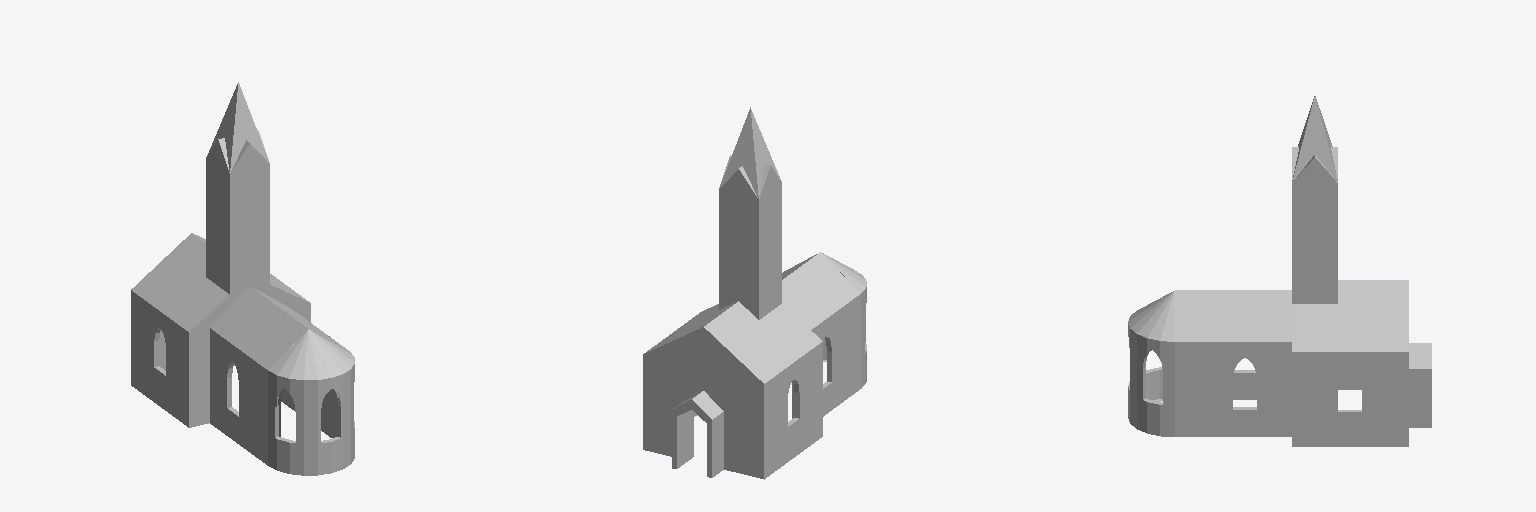
The model's file is Church CSG.obj.
3 views of the same model, side by side, from view 1: azimuth 30°, elevation 25°; view 2: azimuth 150°, elevation 25°; view 3: azimuth 270°, elevation 25° (orthographic).
Parts seen in each view (by area): view 1: Mesh1; view 2: Mesh1; view 3: Mesh1.
Part boxes in pixels (left/top/right/bottom): Mesh1: left=131, top=82, right=354, bottom=475; Mesh1: left=643, top=107, right=866, bottom=479; Mesh1: left=1128, top=96, right=1431, bottom=446.
Bounding box in the file's own units: 12 × 30.5 × 26.